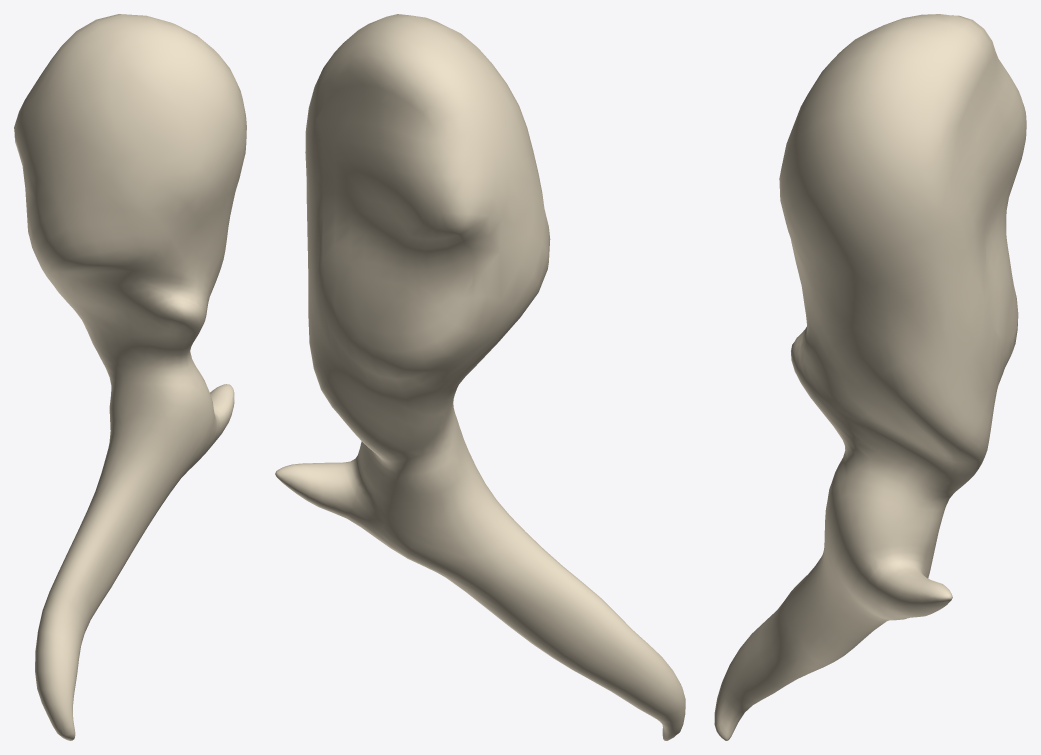
File: malleus-l.glb
The picture shows the model from 3 angles, left to right: view 1: azimuth 30°, elevation 25°; view 2: azimuth 150°, elevation 25°; view 3: azimuth 270°, elevation 25°; orthographic projection. The views are drawn at different scales.
Parts seen in each view (by area): view 1: Malleus.l; view 2: Malleus.l; view 3: Malleus.l.
Boxes of the visible parts, <box> form: Malleus.l: <box>14,14,246,740</box>; Malleus.l: <box>275,14,685,740</box>; Malleus.l: <box>714,14,1026,740</box>.
Size of the model in its own units: 0.00364 by 0.00818 by 0.00288.
